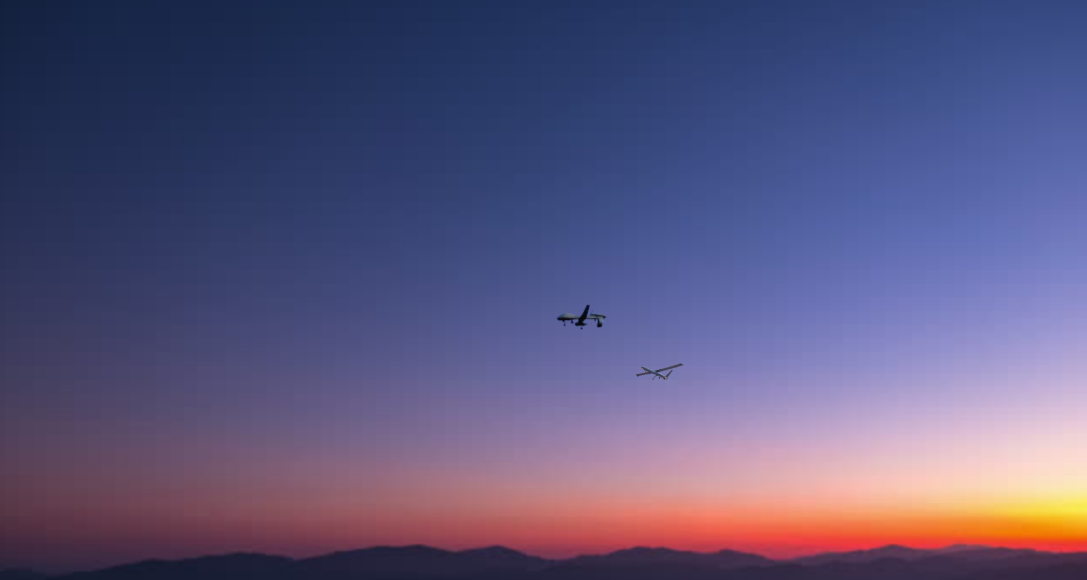military drone: (556, 304, 606, 329), (635, 362, 683, 380)
